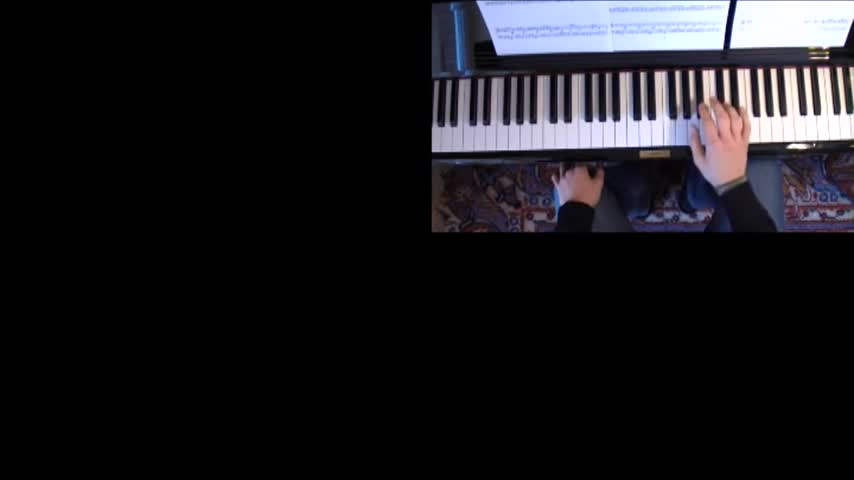left: (546, 149, 607, 212)
right: (685, 97, 754, 183)
